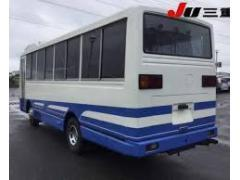bus: (19, 3, 221, 158)
